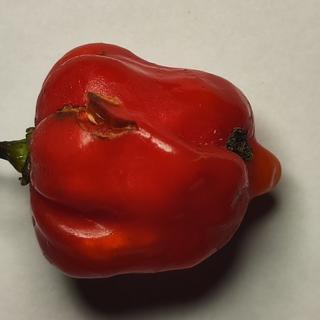Defect: (47, 90, 149, 143), (218, 118, 262, 172)
